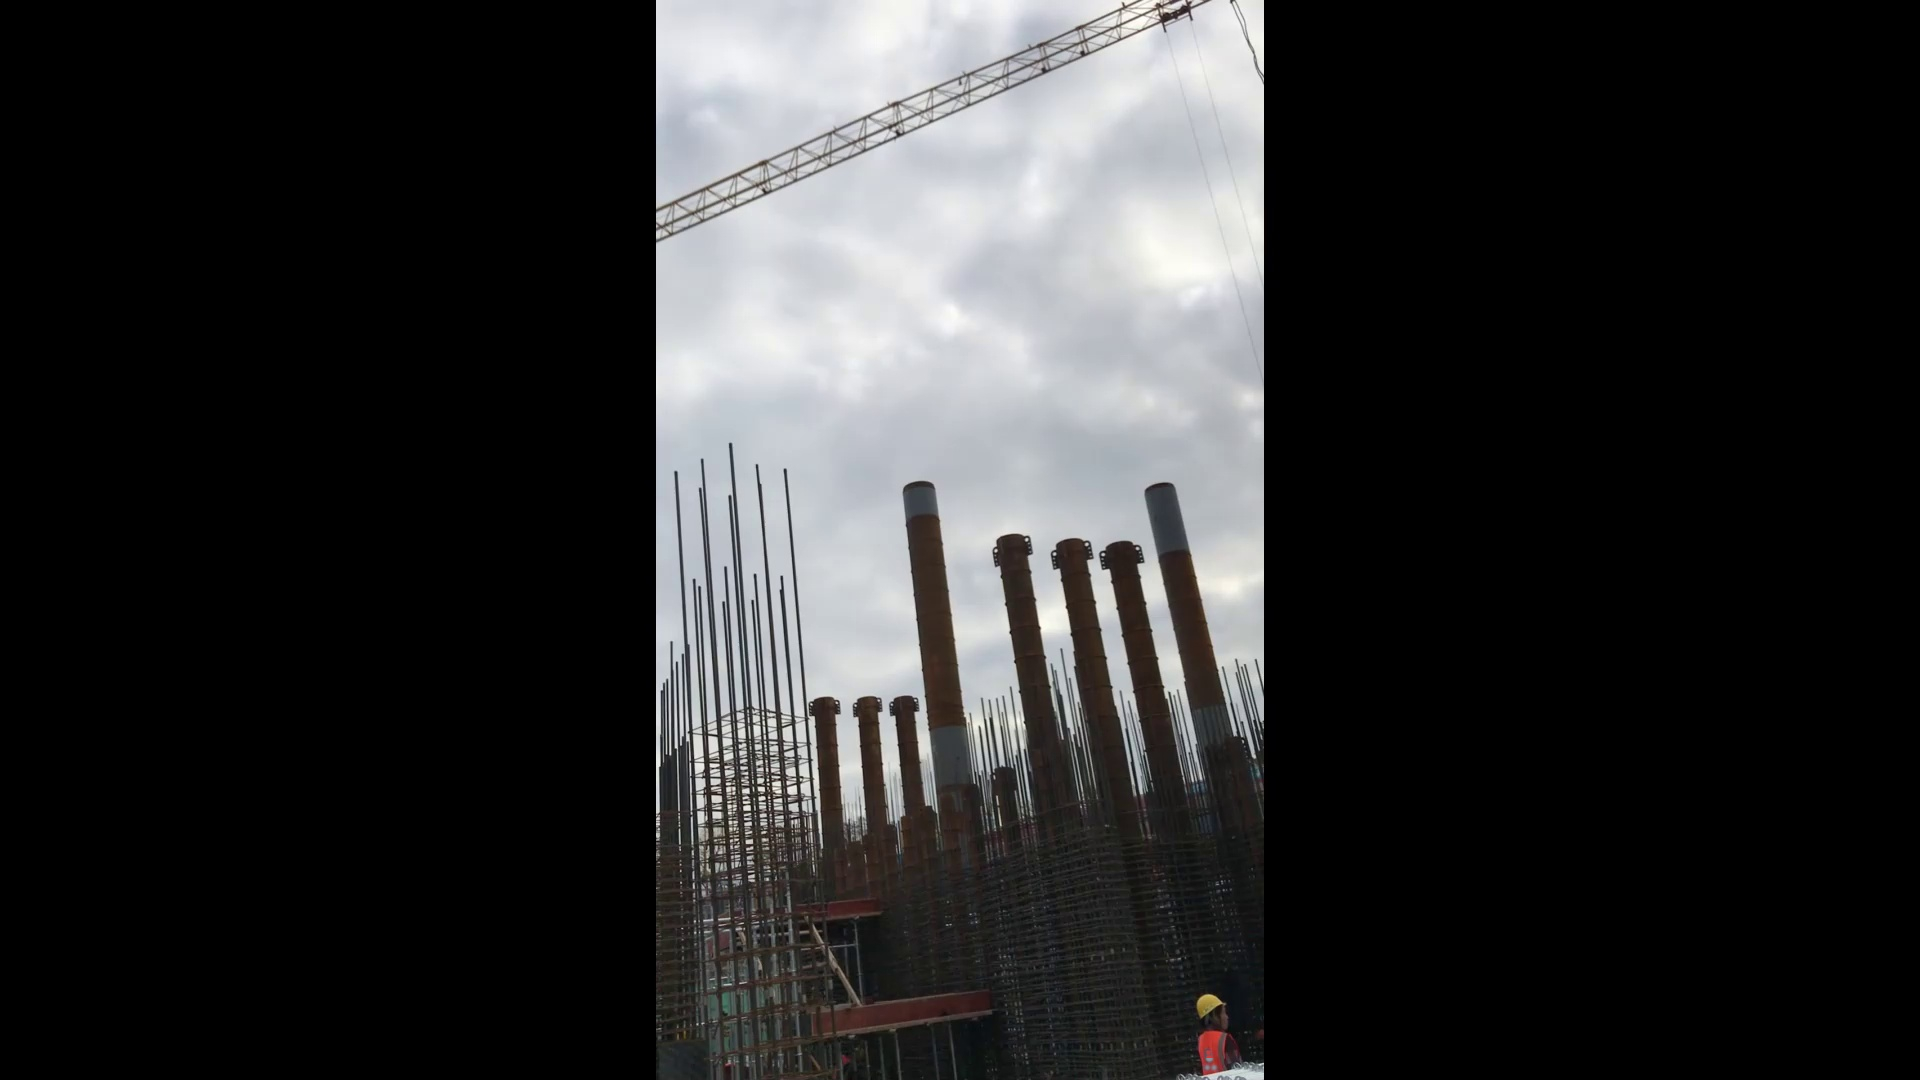helmet: (1195, 991, 1228, 1021)
person: (1192, 988, 1242, 1078)
vest: (1196, 1028, 1234, 1078)
